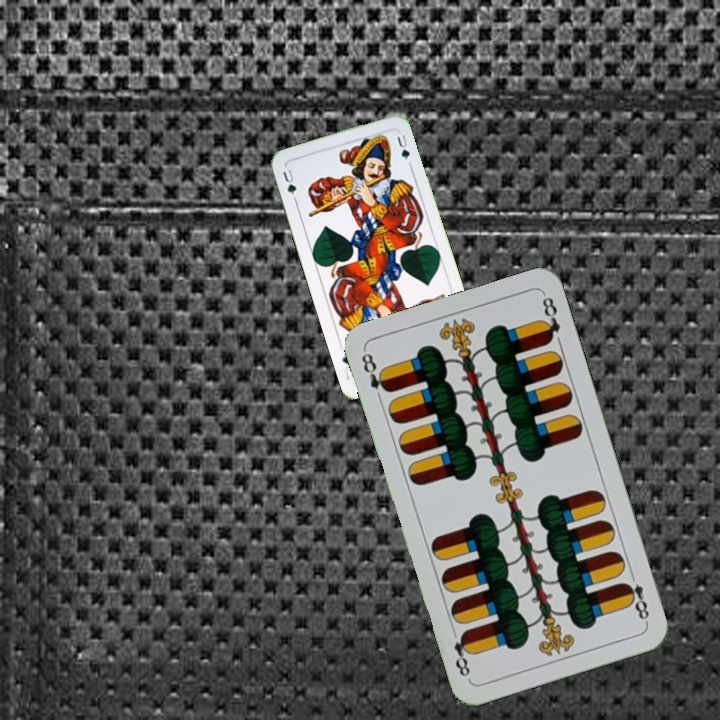E8: (620, 567, 652, 625), (357, 347, 393, 395)
GU: (278, 165, 299, 197)
